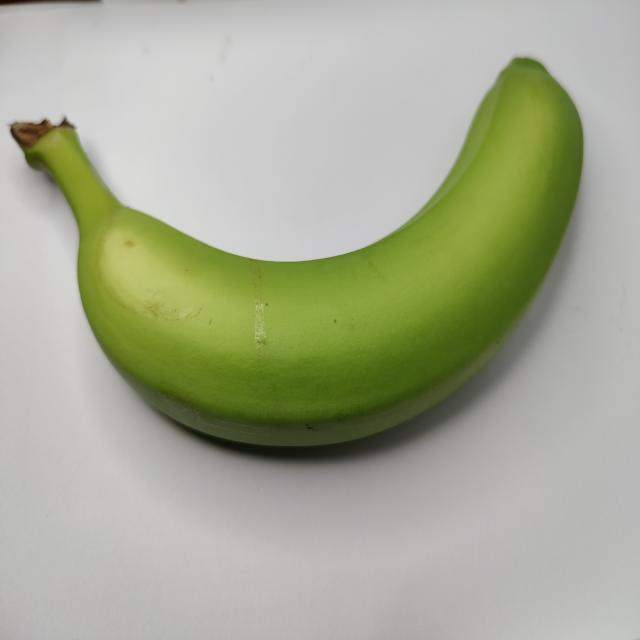raw: (2, 31, 592, 475)
